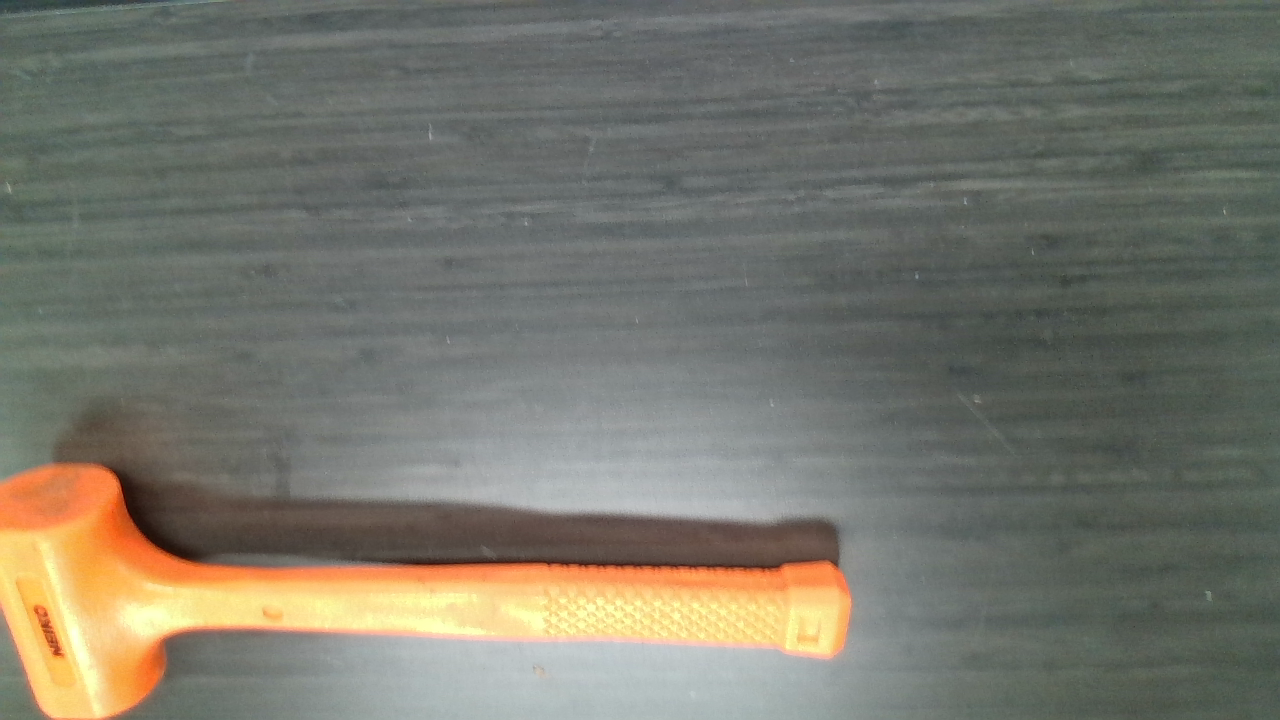Orange Hammer: (5, 466, 851, 717)
